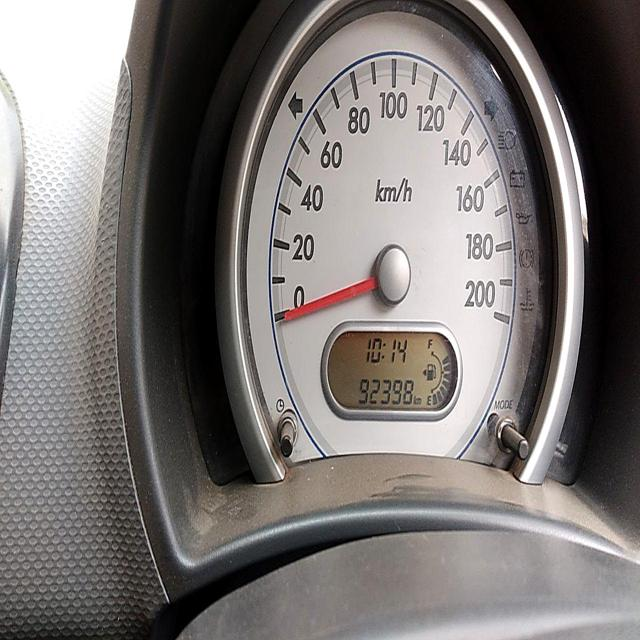odometer: (354, 373, 417, 410)
